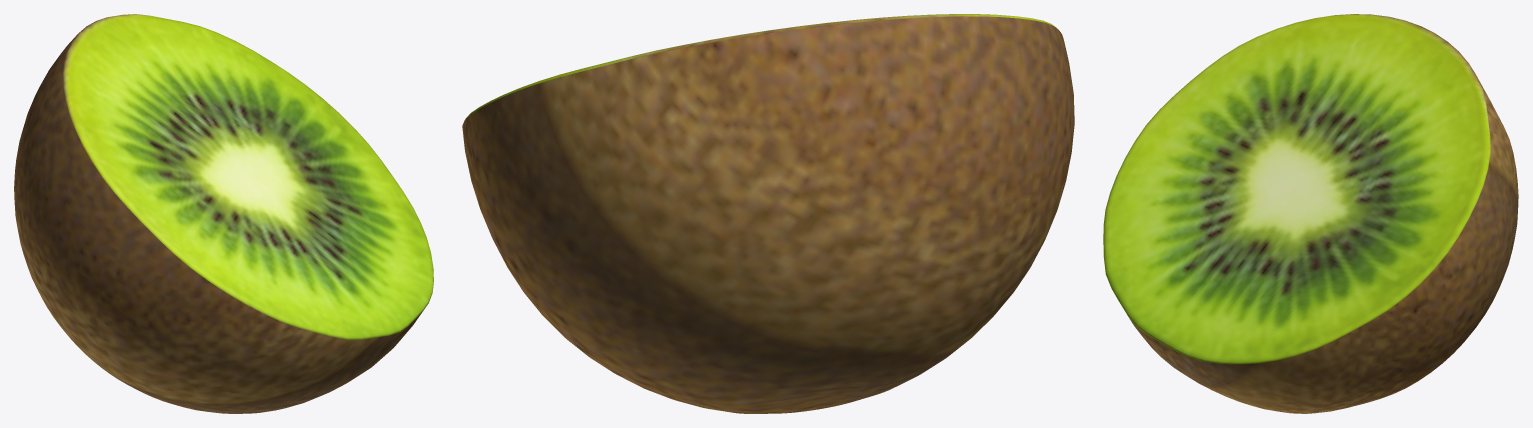
The picture shows the model from 3 angles, left to right: view 1: azimuth 30°, elevation 25°; view 2: azimuth 150°, elevation 25°; view 3: azimuth 270°, elevation 25°; orthographic projection. The views are drawn at different scales.
Size of the model in its own units: 7.54 by 6.4 by 7.54.
1 material, 1 textured.
